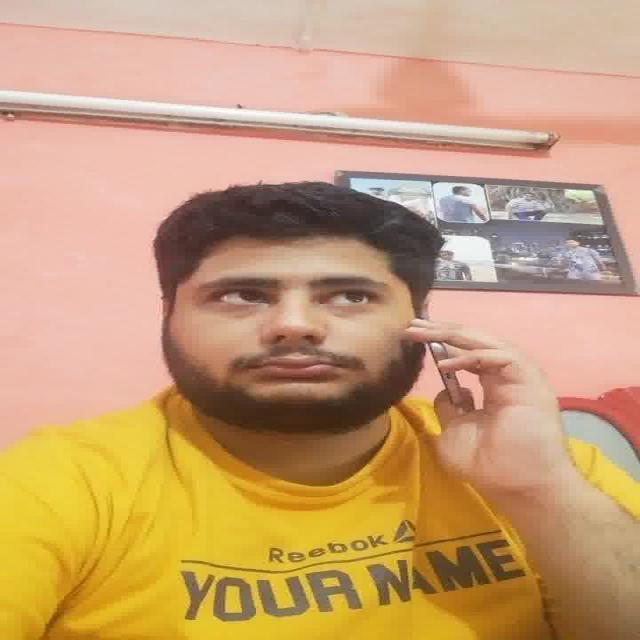Phone: (430, 342, 472, 408)
